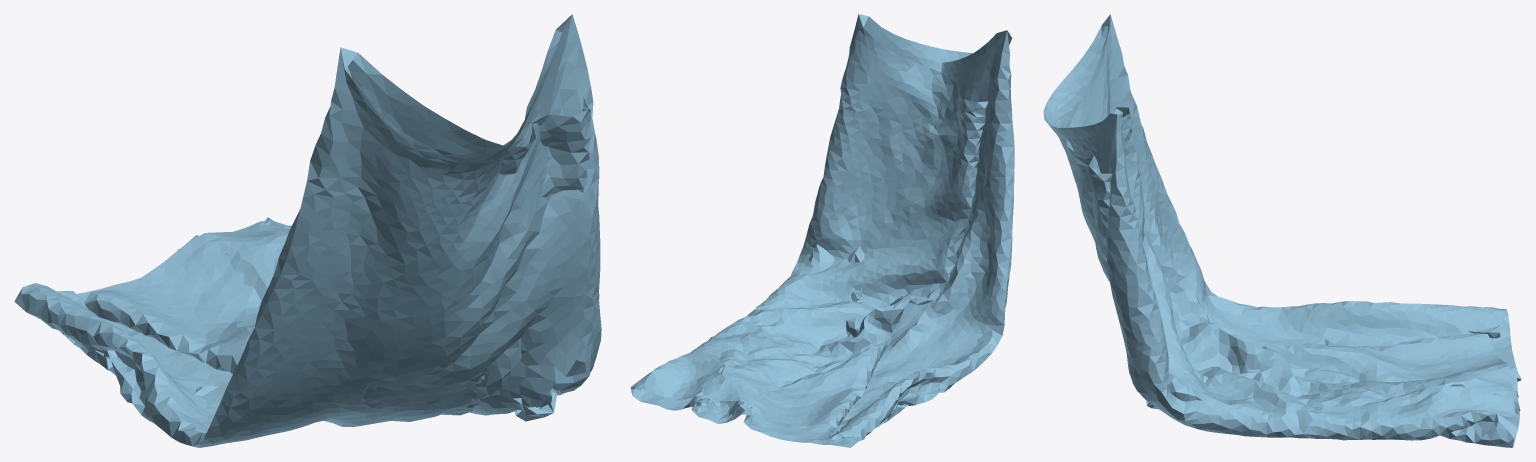
Rendered from frame_08.glb.
The picture shows the model from 3 angles, left to right: view 1: azimuth 30°, elevation 25°; view 2: azimuth 150°, elevation 25°; view 3: azimuth 270°, elevation 25°; orthographic projection. The views are drawn at different scales.
Visible parts, largest first — view 1: frame_08.obj; view 2: frame_08.obj; view 3: frame_08.obj.
Part boxes in pixels (x1,y1,x2,y2): frame_08.obj: (14,14,601,447); frame_08.obj: (630,14,1014,447); frame_08.obj: (1043,14,1521,447).
Size of the model in its own units: 0.8914 by 1.04 by 1.36.
